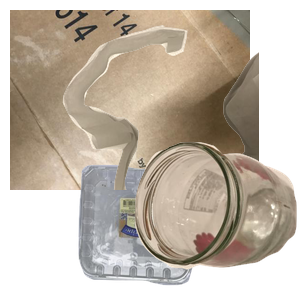cardboard: (10, 10, 250, 190)
glass: (132, 139, 300, 300)
plastic: (76, 162, 264, 300)
trash: (60, 23, 300, 203)
